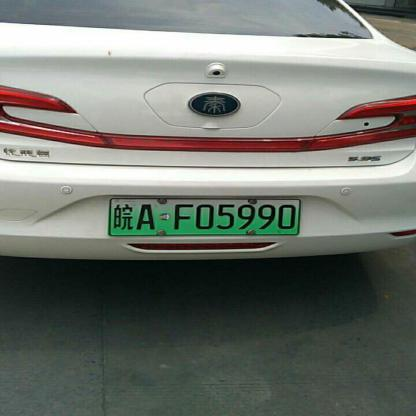lp: (110, 198, 298, 234)
